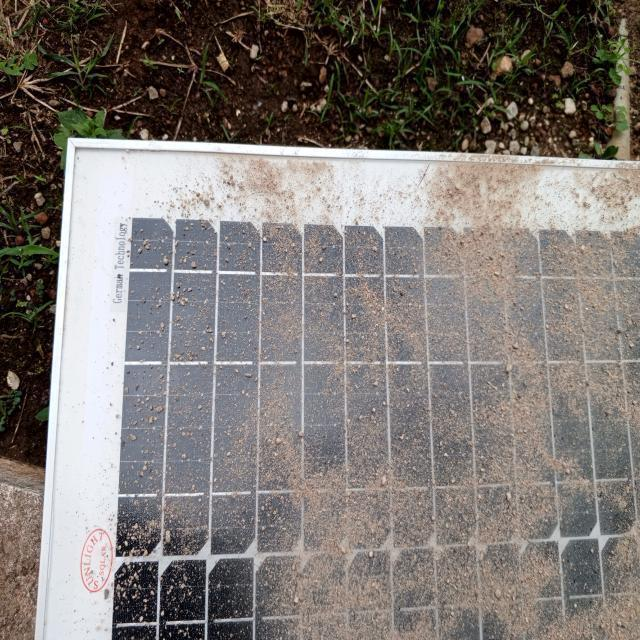Anomaly Solar Panel: (106, 209, 640, 636)
Surface Contaminant: (127, 225, 639, 639)
